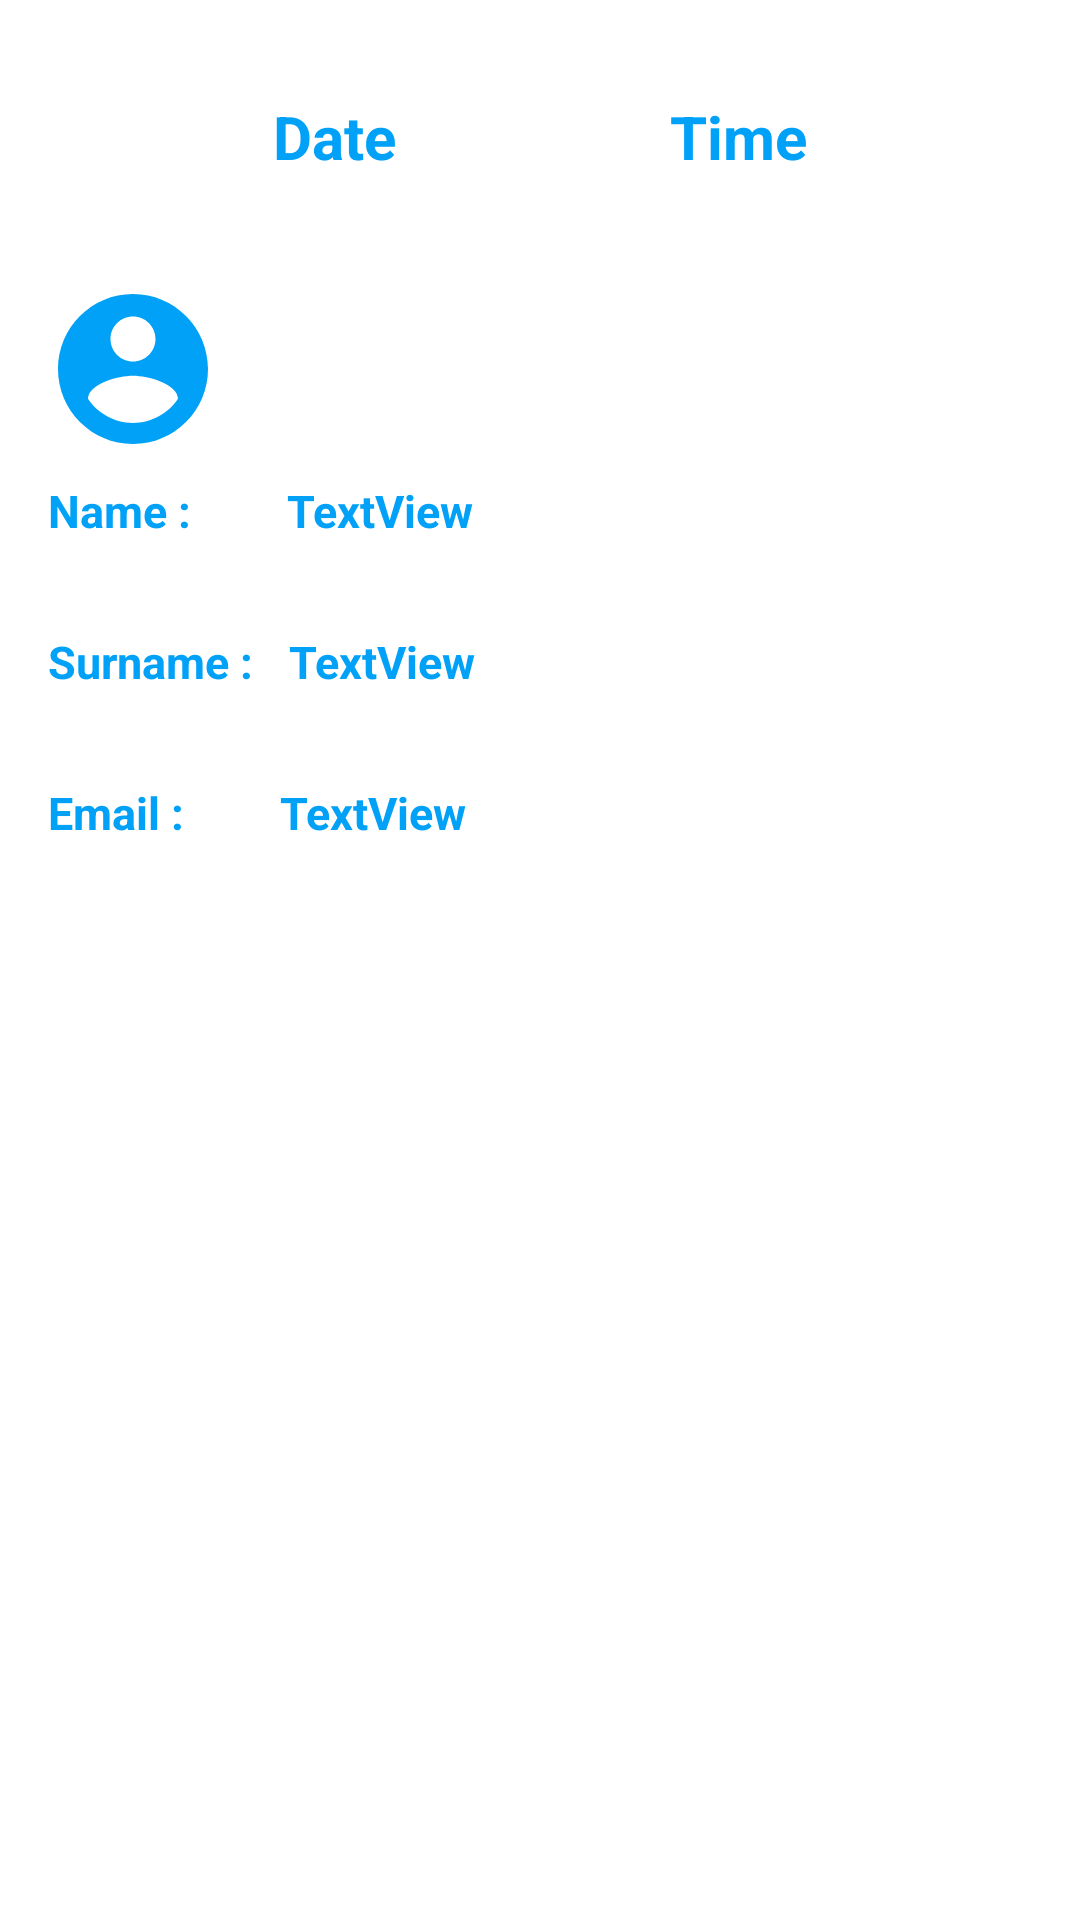

Named icons in this screenshot (1080x1920) and their bounding boxes, detection(x1, y1, x2, y2):
profile nav: detection(58, 294, 208, 444)
